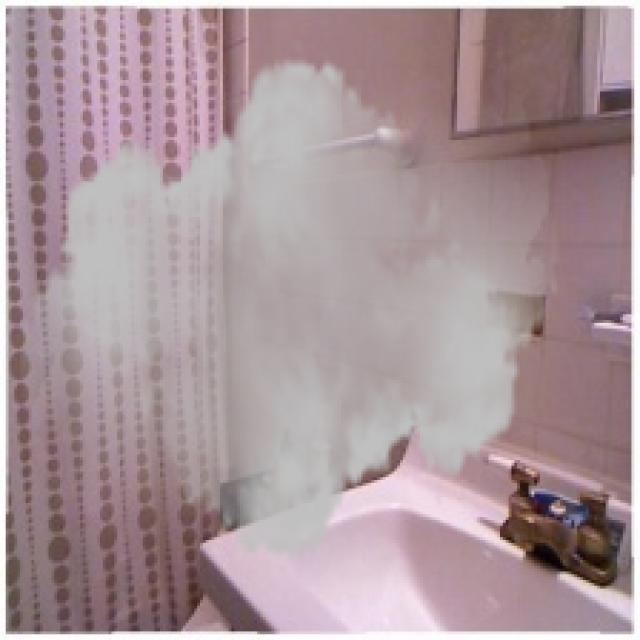smoke: (20, 37, 560, 580)
